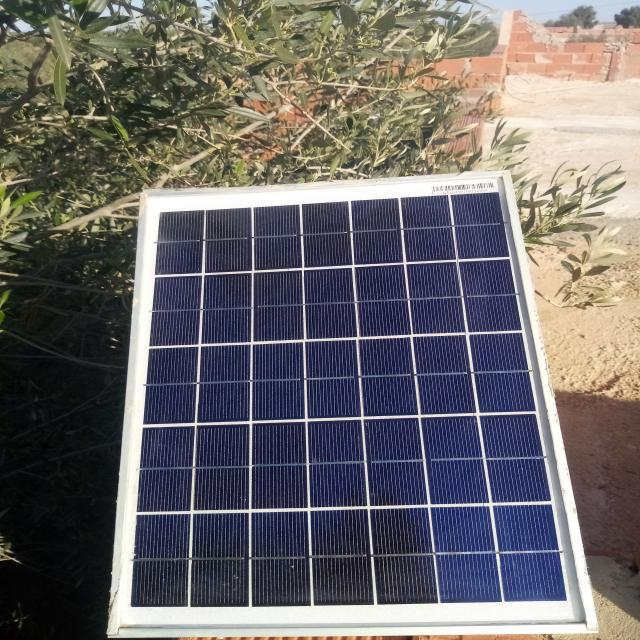no faulty: (107, 174, 601, 632)
